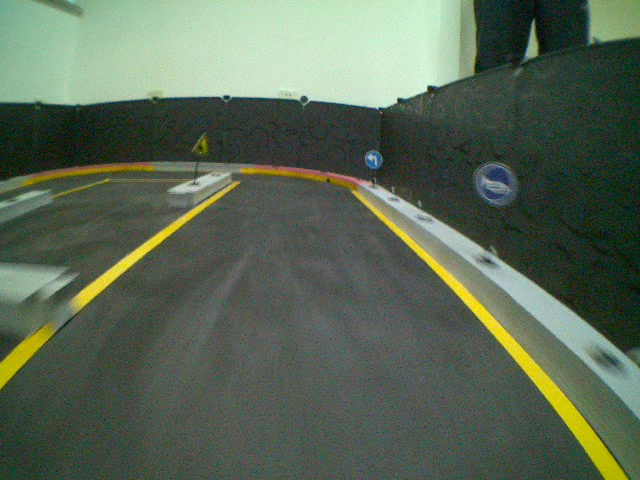fast: (191, 132, 208, 157)
horn: (473, 159, 519, 206)
turn: (365, 148, 384, 169)
